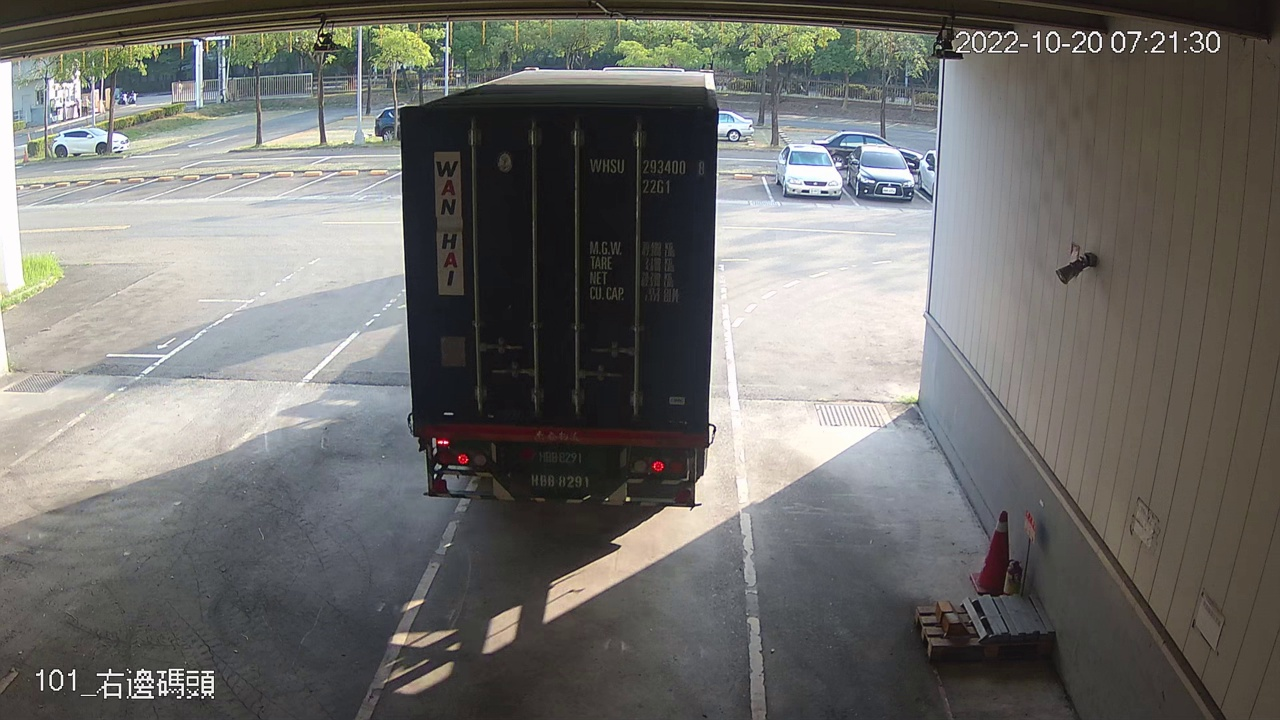container: (582, 149, 712, 199)
